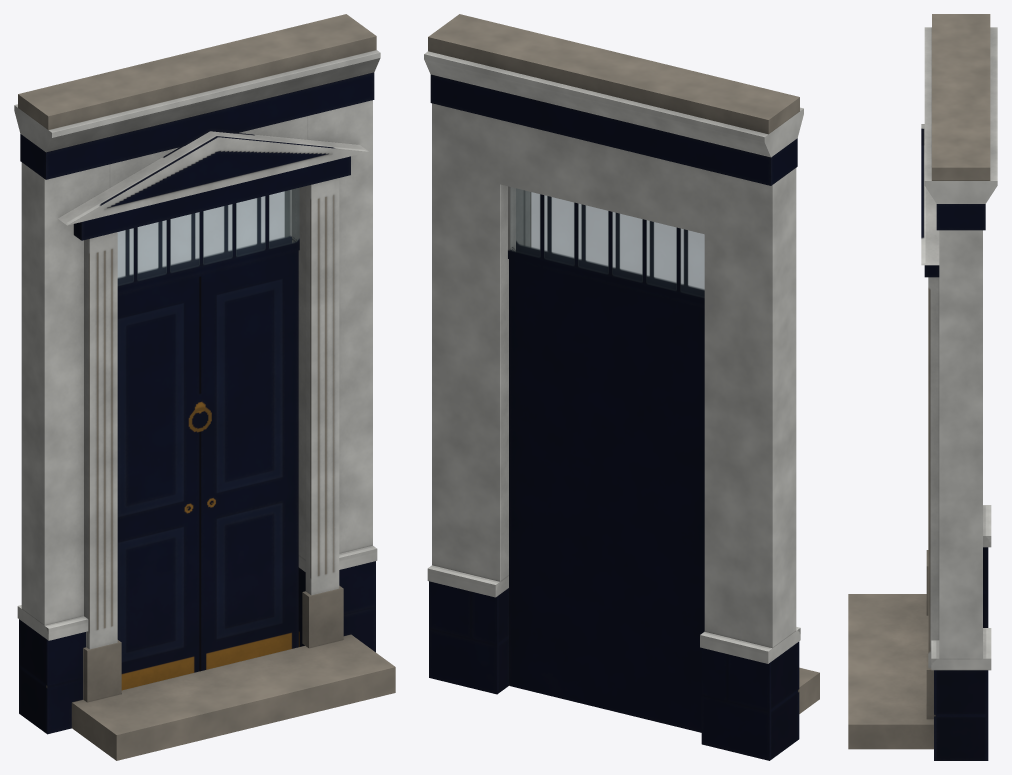
Rendered from charter_door.glb.
3 views of the same model, side by side, from view 1: azimuth 30°, elevation 25°; view 2: azimuth 150°, elevation 25°; view 3: azimuth 270°, elevation 25° (orthographic). The views are drawn at different scales.
Visible parts, largest first — view 1: charter_door; view 2: charter_door; view 3: charter_door.
Boxes of the visible parts, x1,y1,x2,y2 form: charter_door: (14,14,395,760); charter_door: (424,14,819,760); charter_door: (848,14,997,760).
Bounding box in the file's own units: 2 × 3.6 × 0.82.
1 material, 1 textured.
